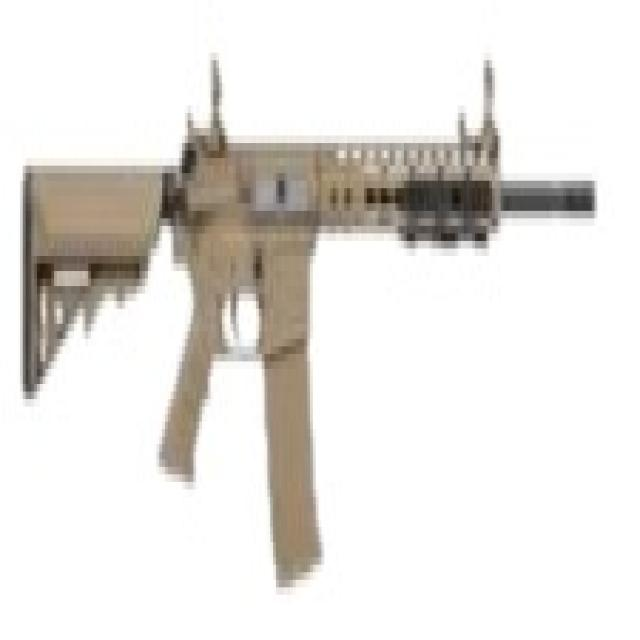rifle: (15, 23, 597, 598)
